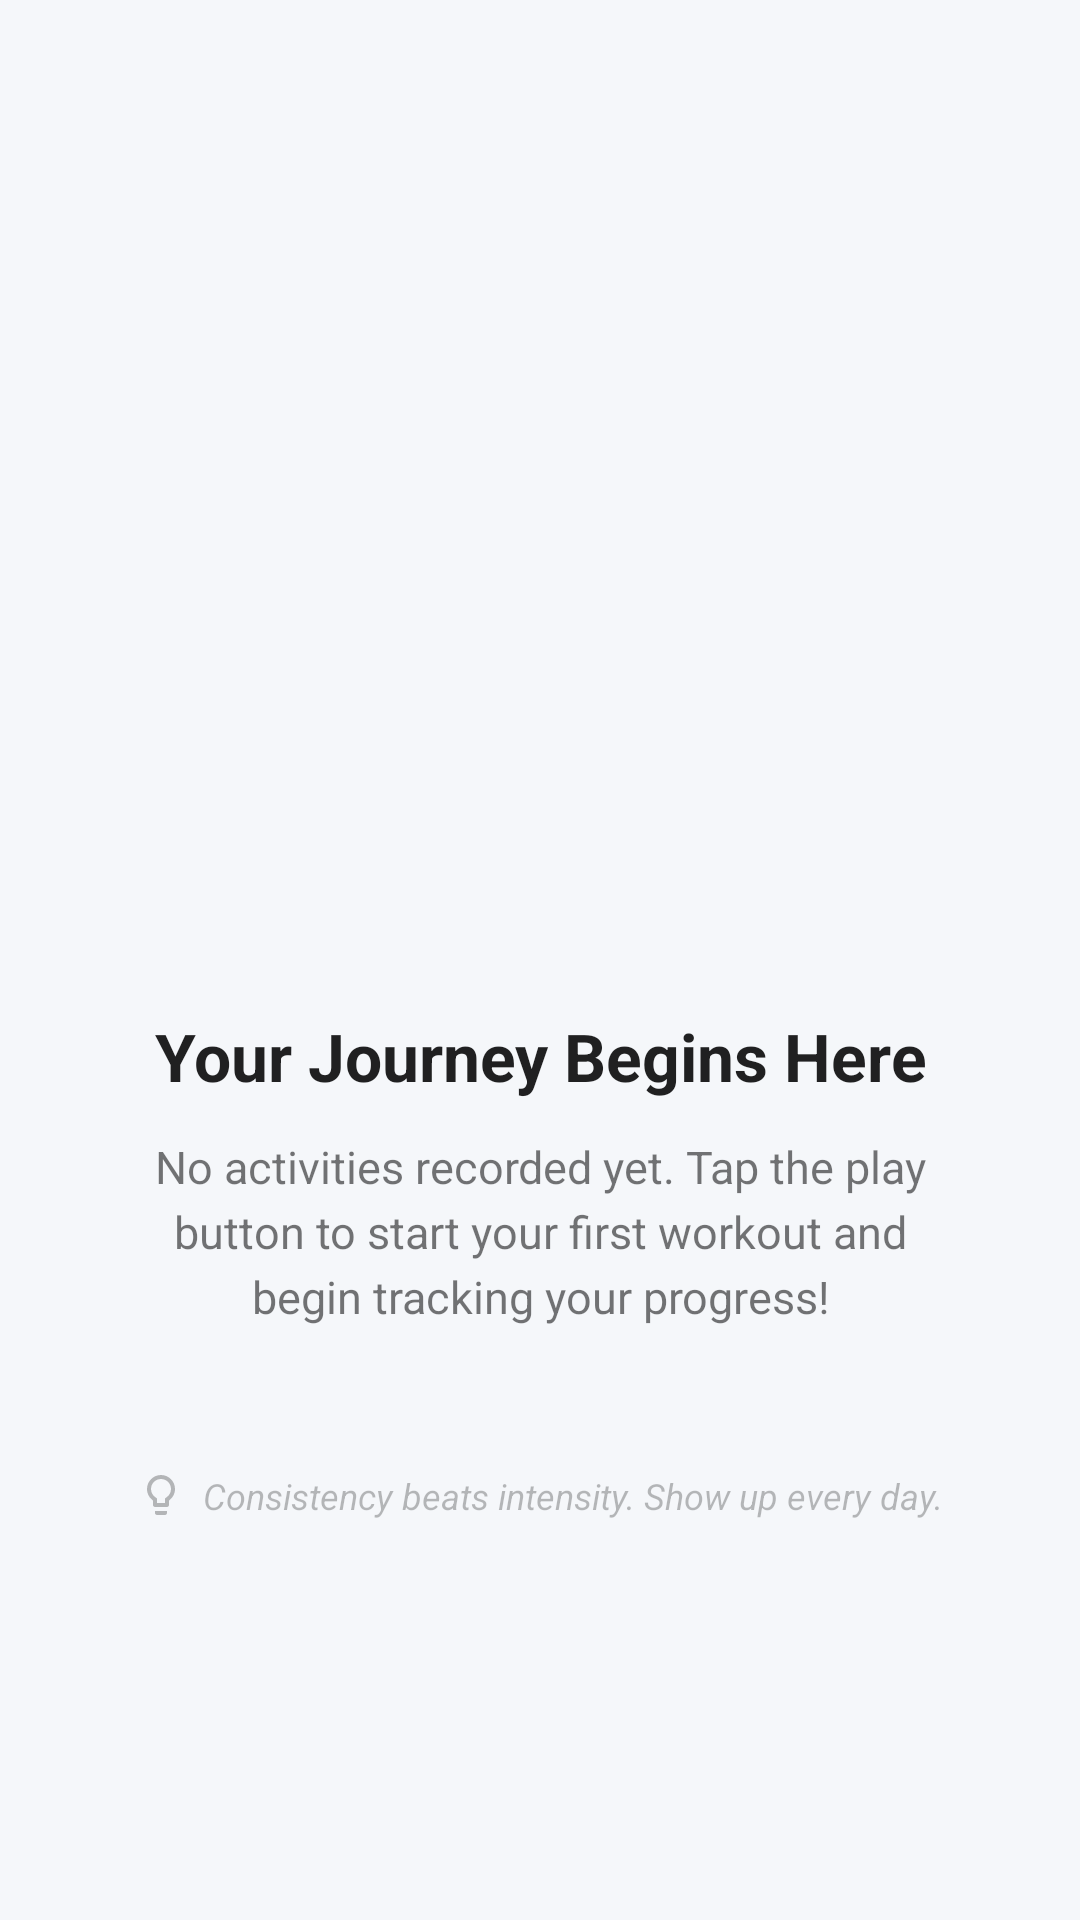

Icon bounding boxes for this 1080px×1920px phone screenshot, format BBox(x1, y1, x2, y2):
lightbulb: BBox(147, 1475, 175, 1515)
